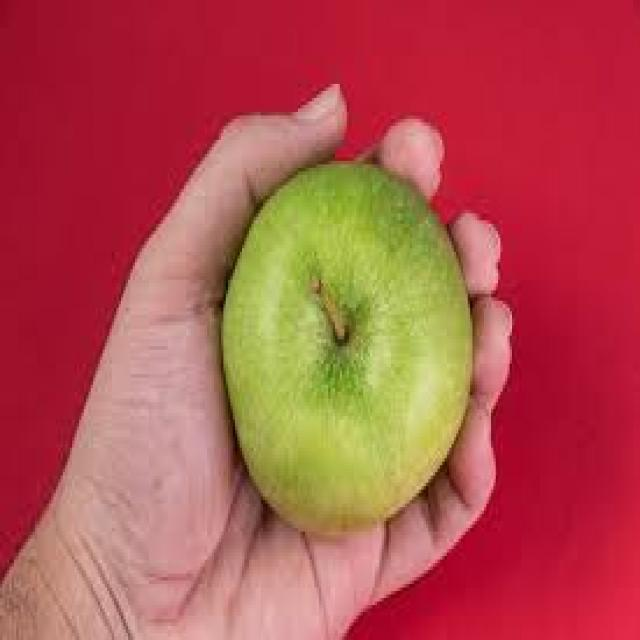Fresh Apple: (192, 142, 493, 546)
